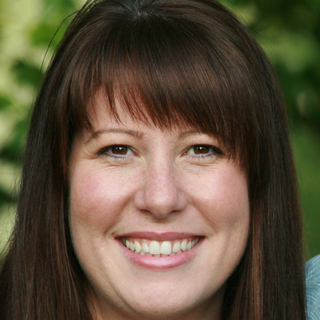eye: (93, 140, 143, 164), (179, 140, 227, 164)
